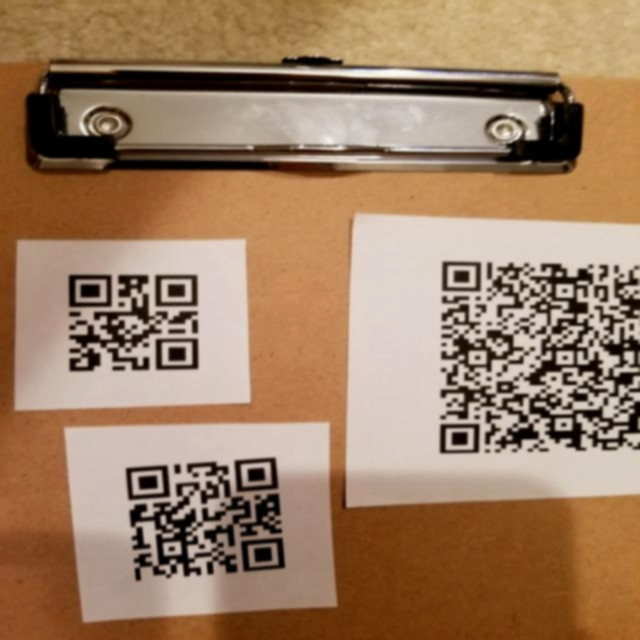qr-code: (426, 240, 638, 461), (120, 448, 298, 593), (56, 260, 217, 380)
